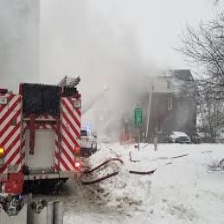smoke: (5, 2, 134, 97)
